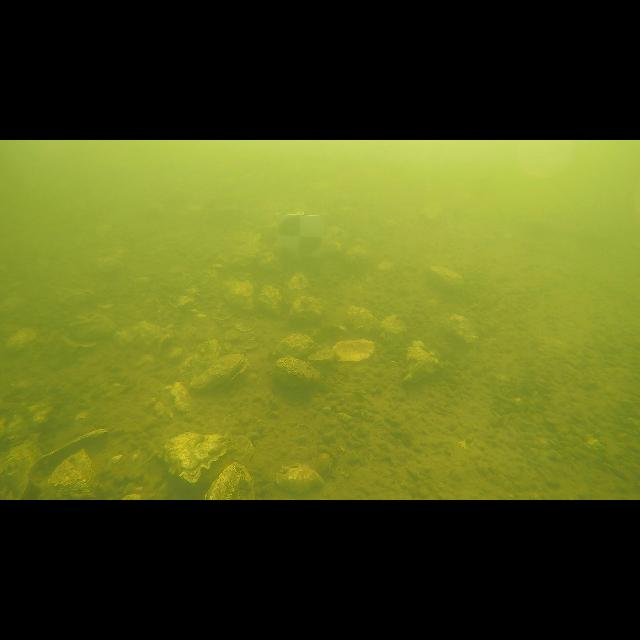Oyster-Closed: (164, 432, 232, 482), (44, 449, 103, 500), (187, 353, 247, 392), (205, 462, 255, 500), (0, 443, 33, 500), (177, 337, 223, 377), (402, 340, 441, 384), (339, 305, 389, 335), (70, 312, 116, 344), (276, 464, 324, 494), (275, 356, 320, 386), (426, 266, 464, 295), (289, 296, 321, 325), (224, 280, 254, 310), (380, 315, 406, 348), (448, 315, 478, 342), (259, 285, 285, 315), (288, 272, 309, 292)
Oyster-Open: (20, 429, 109, 500), (332, 339, 375, 361)
